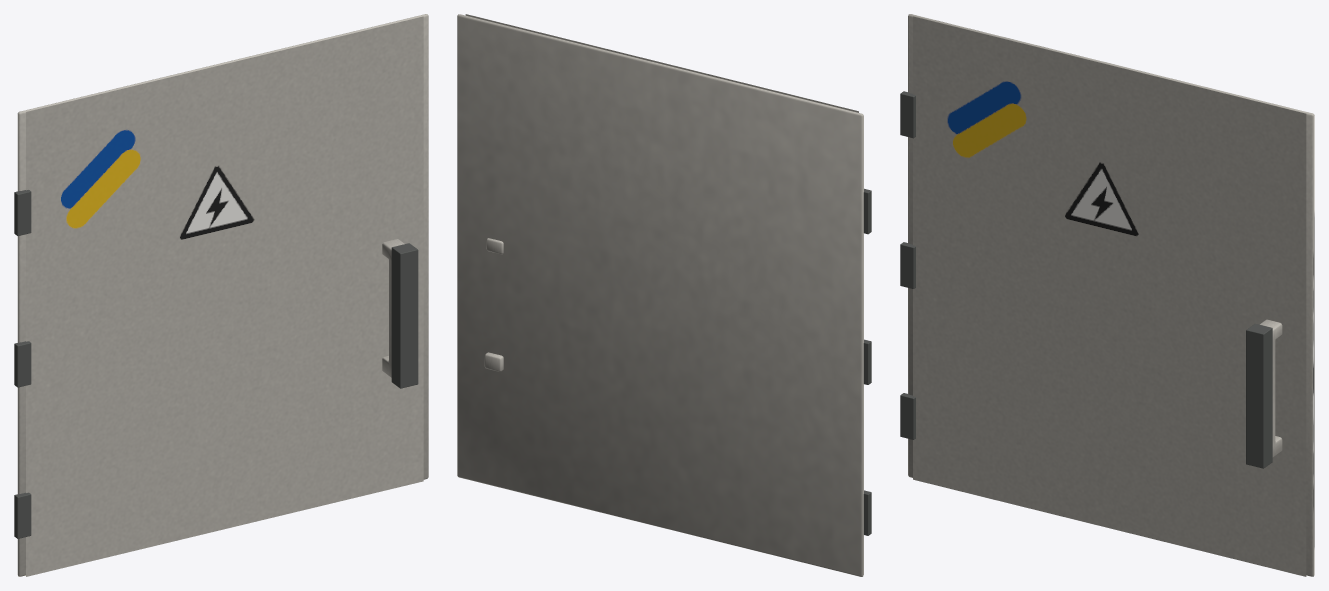
Rendered from SM_EBox_Door.fbx.
3 renders of one model, left to right at view 1: azimuth 30°, elevation 25°; view 2: azimuth 150°, elevation 25°; view 3: azimuth 330°, elevation 25°, orthographic.
Visible parts, largest first — view 1: SM_EBox_Door; view 2: SM_EBox_Door; view 3: SM_EBox_Door.
Boxes of the visible parts, box(x1,y1,x2,y2) form: SM_EBox_Door: box(14, 14, 428, 576); SM_EBox_Door: box(457, 14, 871, 576); SM_EBox_Door: box(900, 14, 1314, 576).
Bounding box in the file's own units: 60 × 64.5 × 6.23.
2 materials, 1 textured.
